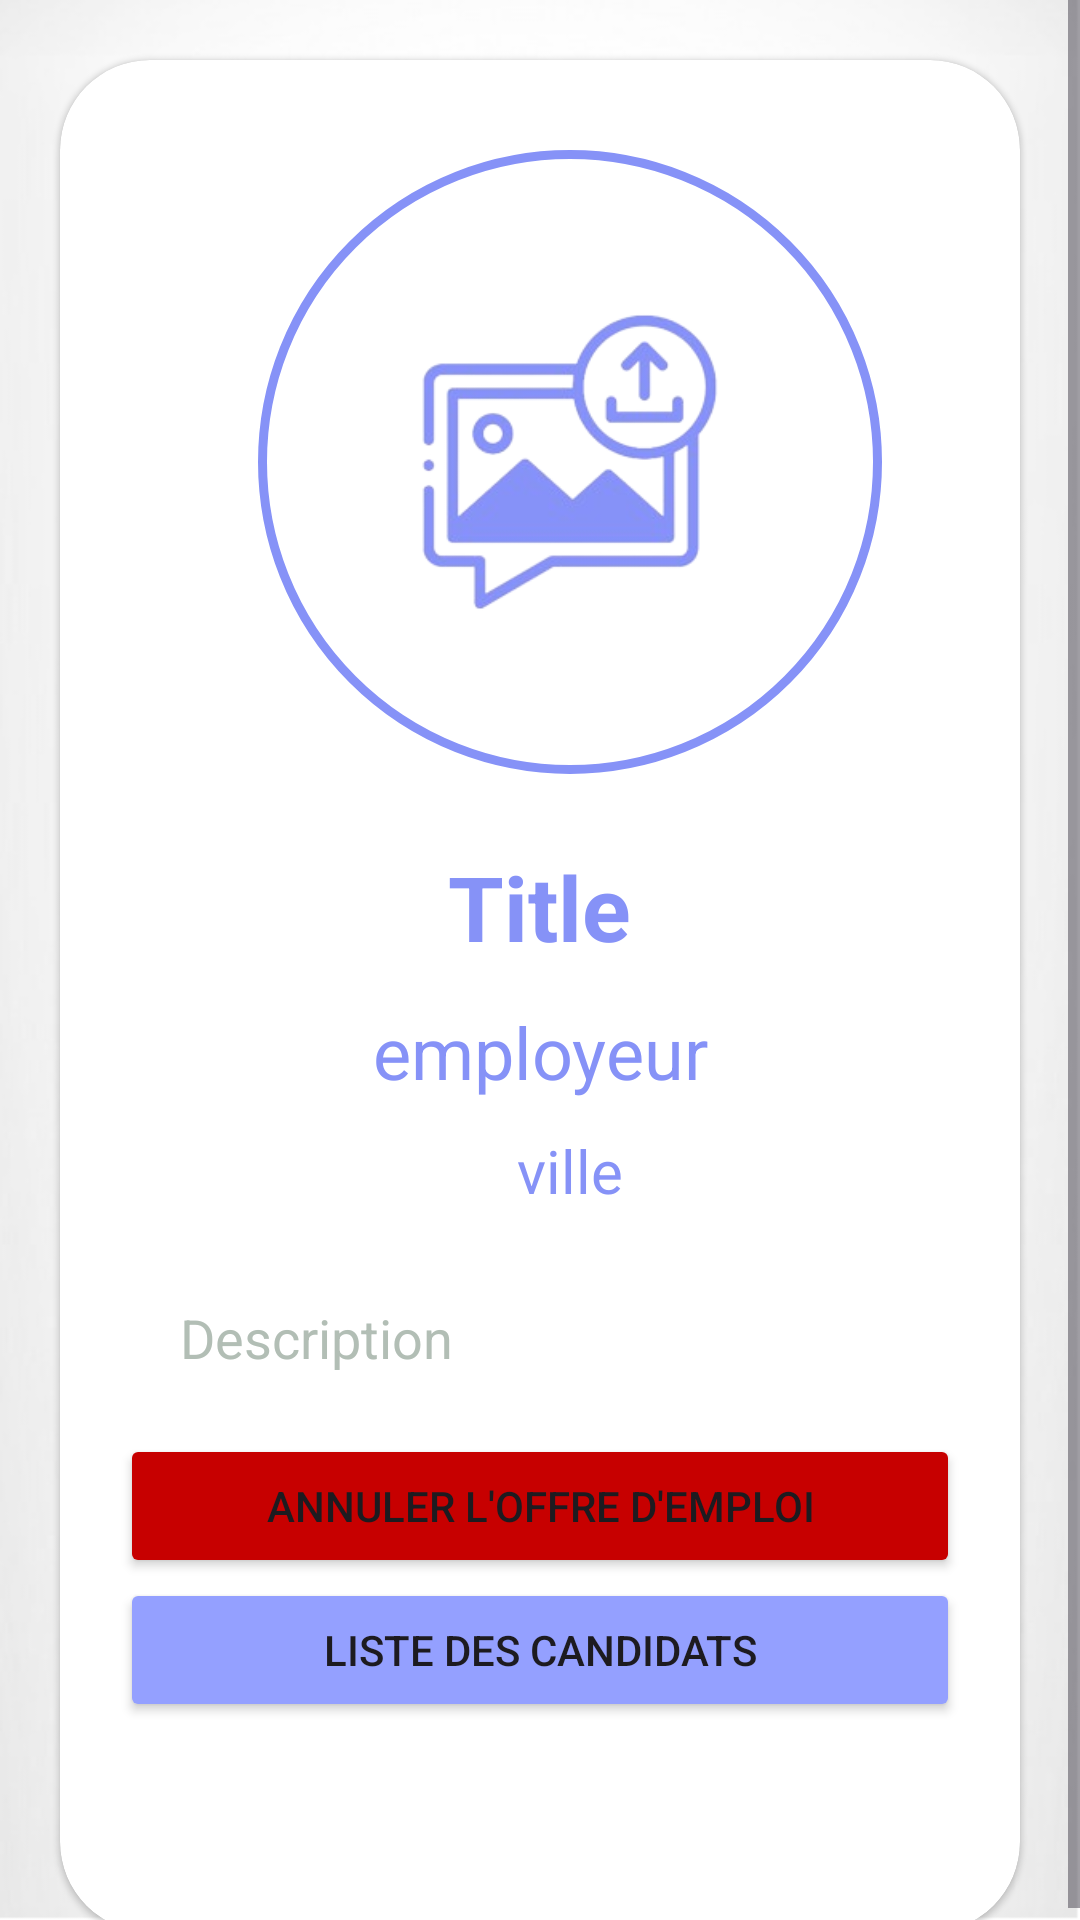

Icon bounding boxes for this 1080×1920 phone screenshot, format rect(x1, y1, x2, y2):
uploadimg: rect(423, 315, 717, 609)
